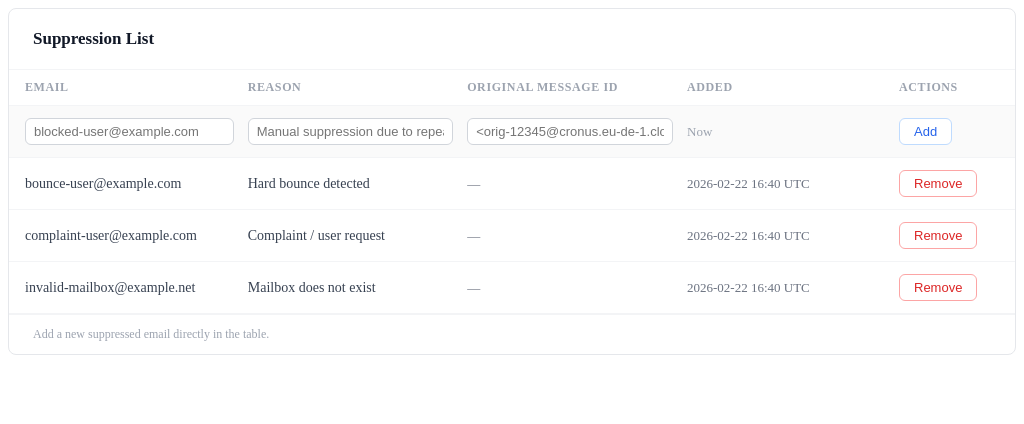
SuppressionList › adds a new row when email is entered and Add is clicked
The width and height of the screenshot is (1024, 424).
Type "new-user@example.com" into the field with placeholder "blocked-user@example.com" at (129, 132), box [25,118,234,145]
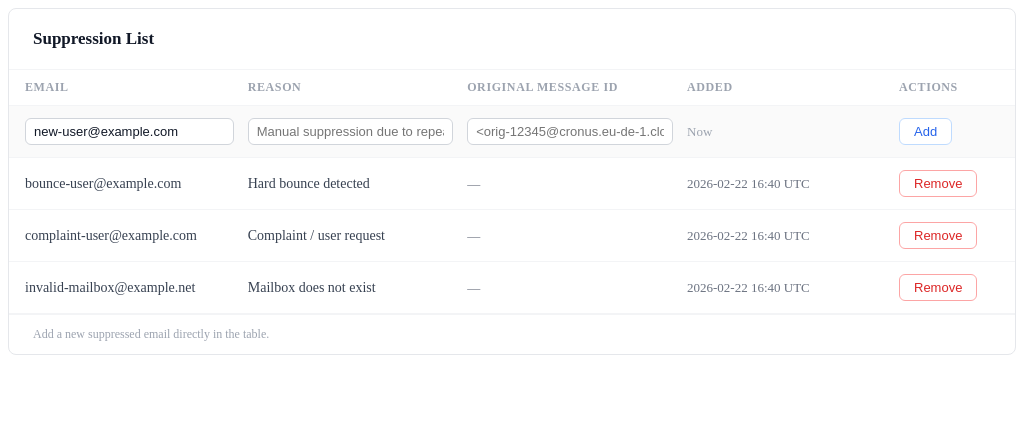
Click the button "Add" at (926, 132), box [899,118,952,145]
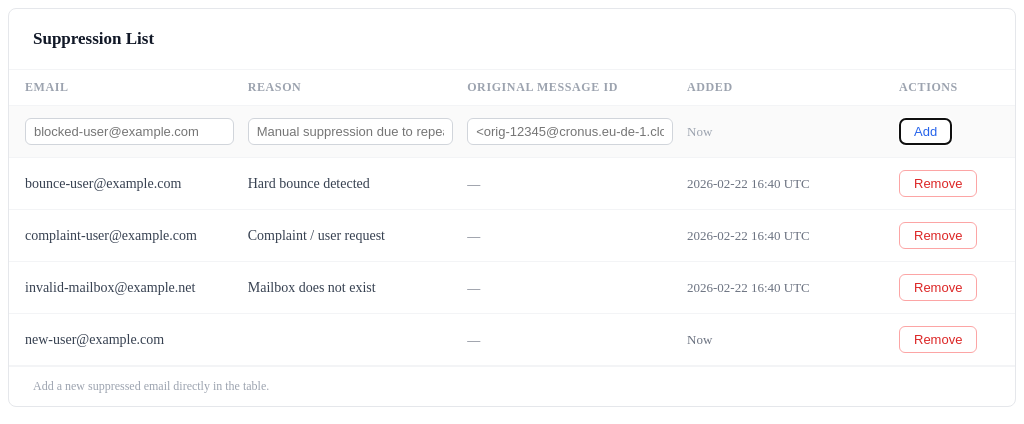
Expected: the text "new-user@example.com" is shown, [9,314,232,366]
